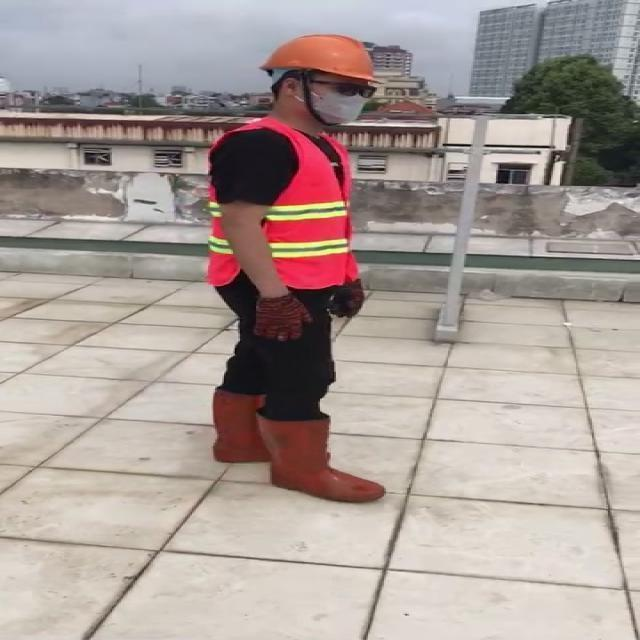gloves: (251, 291, 315, 342), (328, 277, 362, 320)
goggles: (314, 78, 375, 100)
helmet: (259, 34, 377, 81)
safety_vest: (199, 125, 359, 286)
